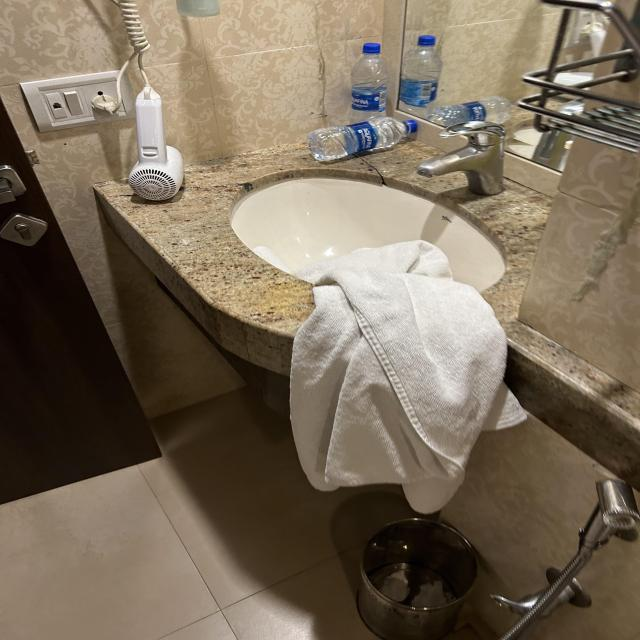mess: (82, 30, 640, 462)
